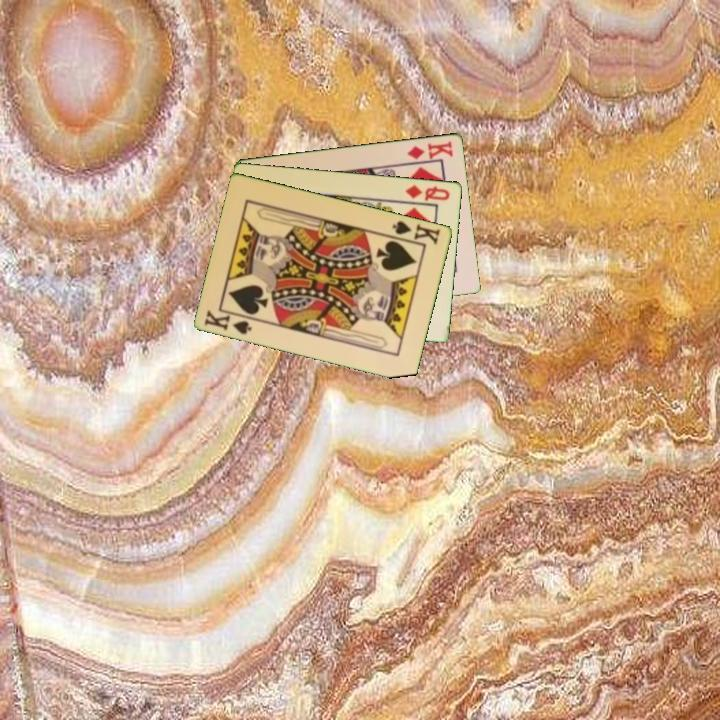Kd: (404, 137, 456, 162)
Ks: (201, 306, 259, 337), (387, 217, 443, 248)
Qd: (402, 181, 453, 204)
